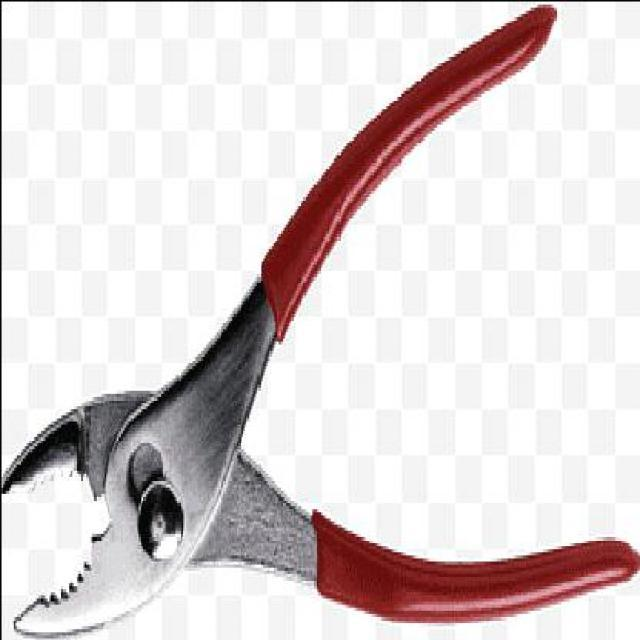pliers: (4, 6, 638, 639)
